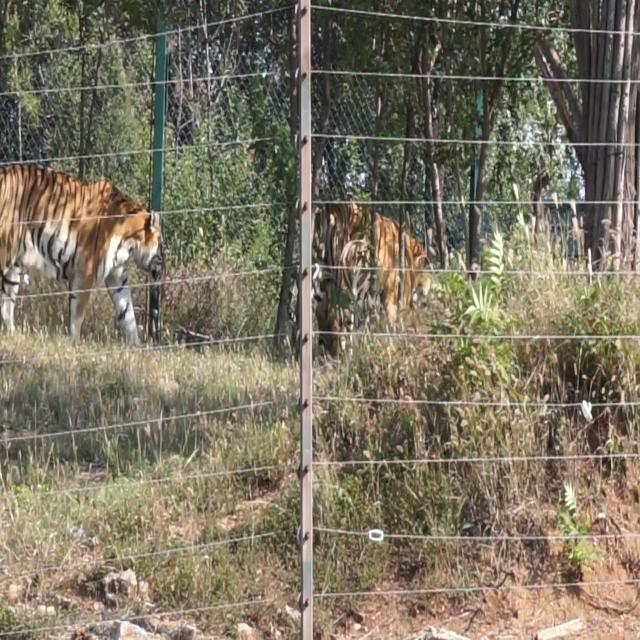Tiger: (0, 158, 169, 356), (299, 198, 433, 339)
